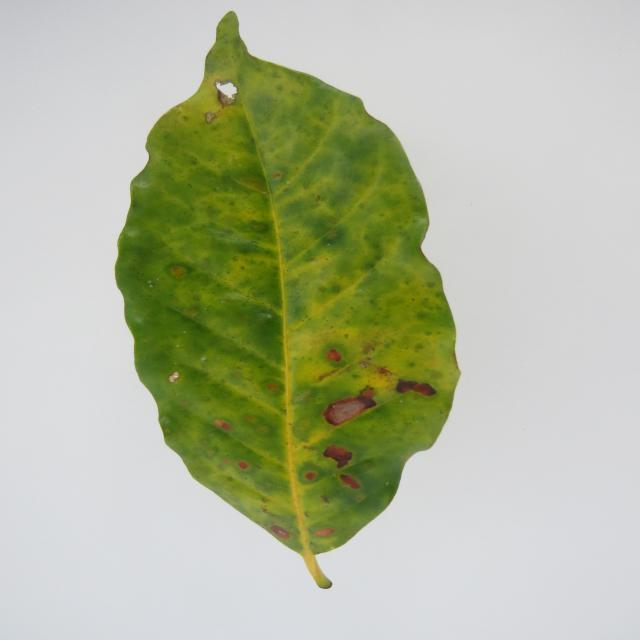DeficienciaNutricional-Nitrogeno: (123, 12, 455, 561)
